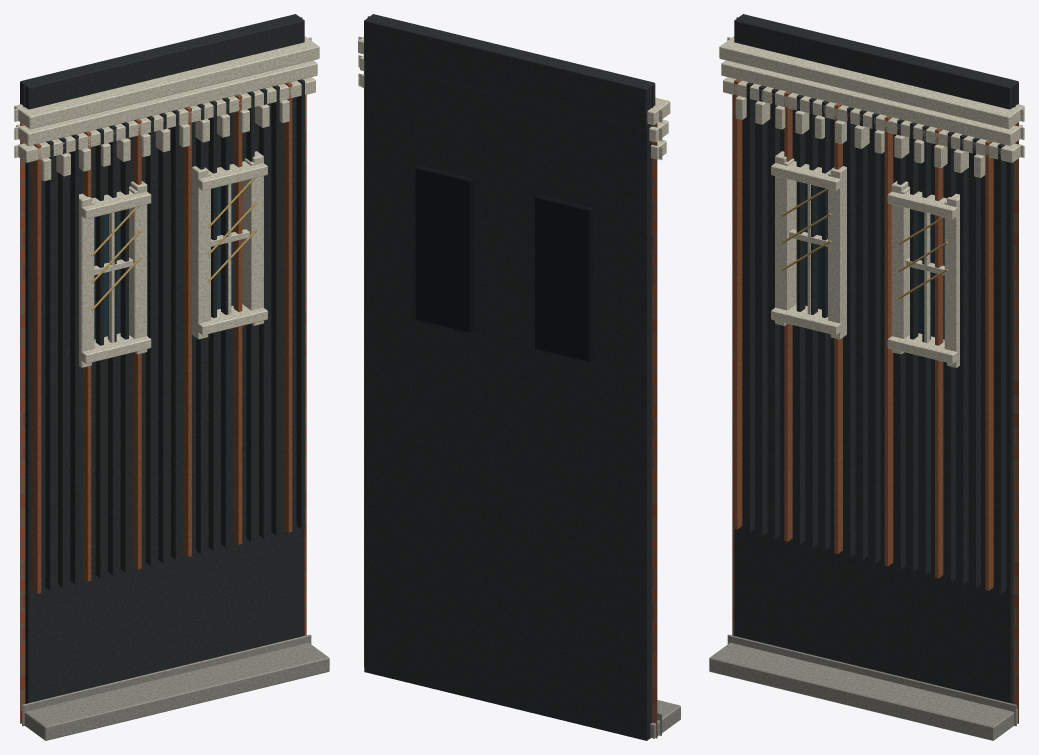
The model's file is WHSE14_lod1.glb.
3 views of the same model, side by side, from view 1: azimuth 30°, elevation 25°; view 2: azimuth 150°, elevation 25°; view 3: azimuth 330°, elevation 25° (orthographic). The views are drawn at different scales.
Parts seen in each view (by area): view 1: WHSE14_FRONT_LOD1; view 2: WHSE14_FRONT_LOD1; view 3: WHSE14_FRONT_LOD1.
Part boxes in pixels (x1=…): WHSE14_FRONT_LOD1: x1=14, y1=14, x2=329, y2=740; WHSE14_FRONT_LOD1: x1=358, y1=14, x2=680, y2=740; WHSE14_FRONT_LOD1: x1=709, y1=14, x2=1024, y2=740.
Size of the model in its own units: 3.44 by 7.05 by 0.65.
9 materials, 6 textured.
